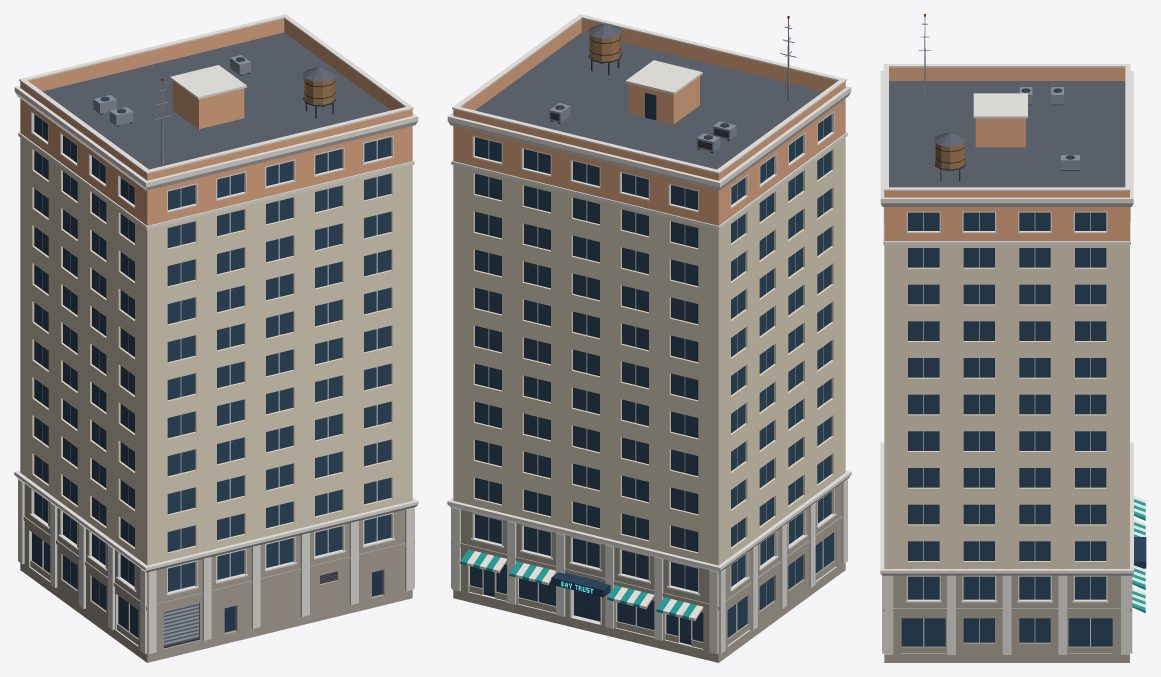
File: office_a.glb
3 views of the same model, side by side, from view 1: azimuth 30°, elevation 25°; view 2: azimuth 150°, elevation 25°; view 3: azimuth 270°, elevation 25° (orthographic). The views are drawn at different scales.
Parts seen in each view (by area): view 1: Building, Building_Glass, Building_Detail; view 2: Building, Building_Glass, Building_Detail; view 3: Building, Building_Glass, Building_Detail.
Part boxes in pixels (x1,y1,x2,y2): Building: (14,14,418,662); Building_Glass: (32,114,390,637); Building_Detail: (93,55,380,619); Building: (447,14,851,662); Building_Glass: (470,114,833,641); Building_Detail: (460,16,796,634); Building: (880,64,1133,662); Building_Glass: (901,212,1112,646); Building_Detail: (918,14,1146,612).
Size of the model in its own units: 24.04 by 47.16 by 21.04.
